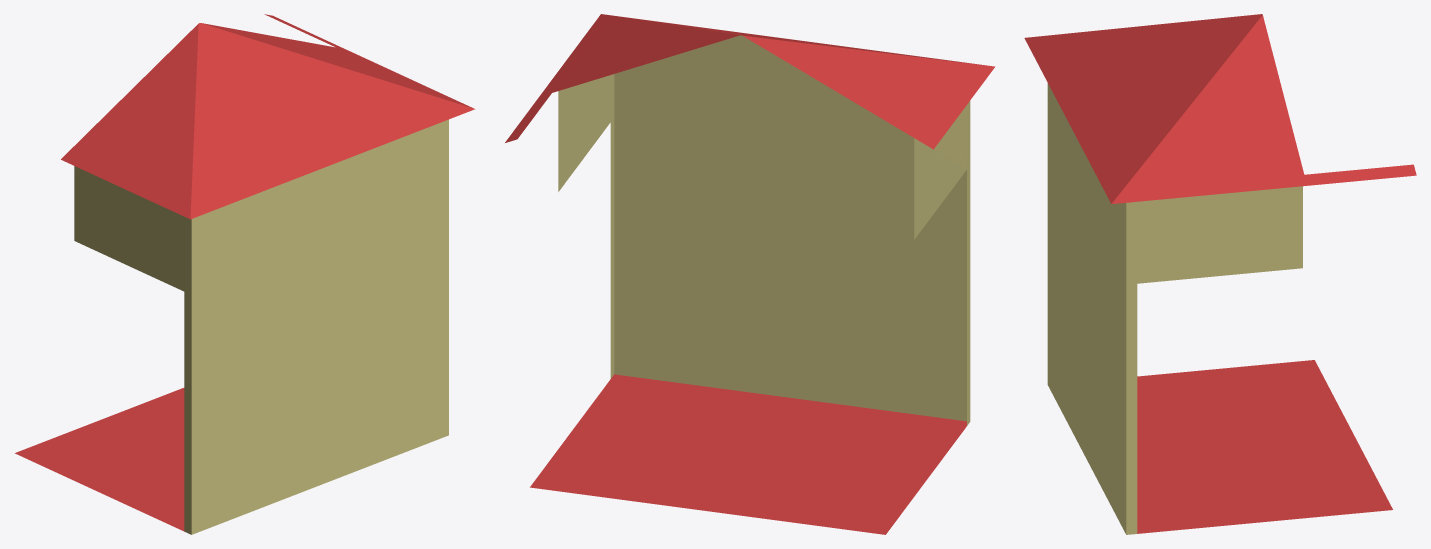
The picture shows the model from 3 angles, left to right: view 1: azimuth 30°, elevation 25°; view 2: azimuth 150°, elevation 25°; view 3: azimuth 270°, elevation 25°; orthographic projection. The views are drawn at different scales.
Size of the model in its own units: 11.15 by 9.99 by 11.99.
